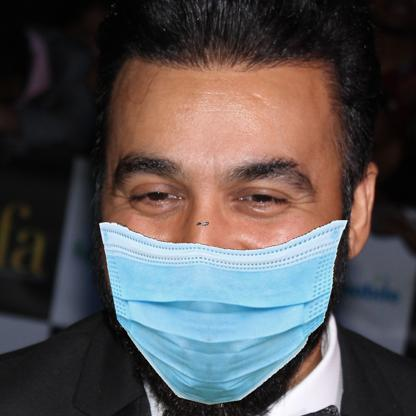mask: (94, 220, 349, 404)
